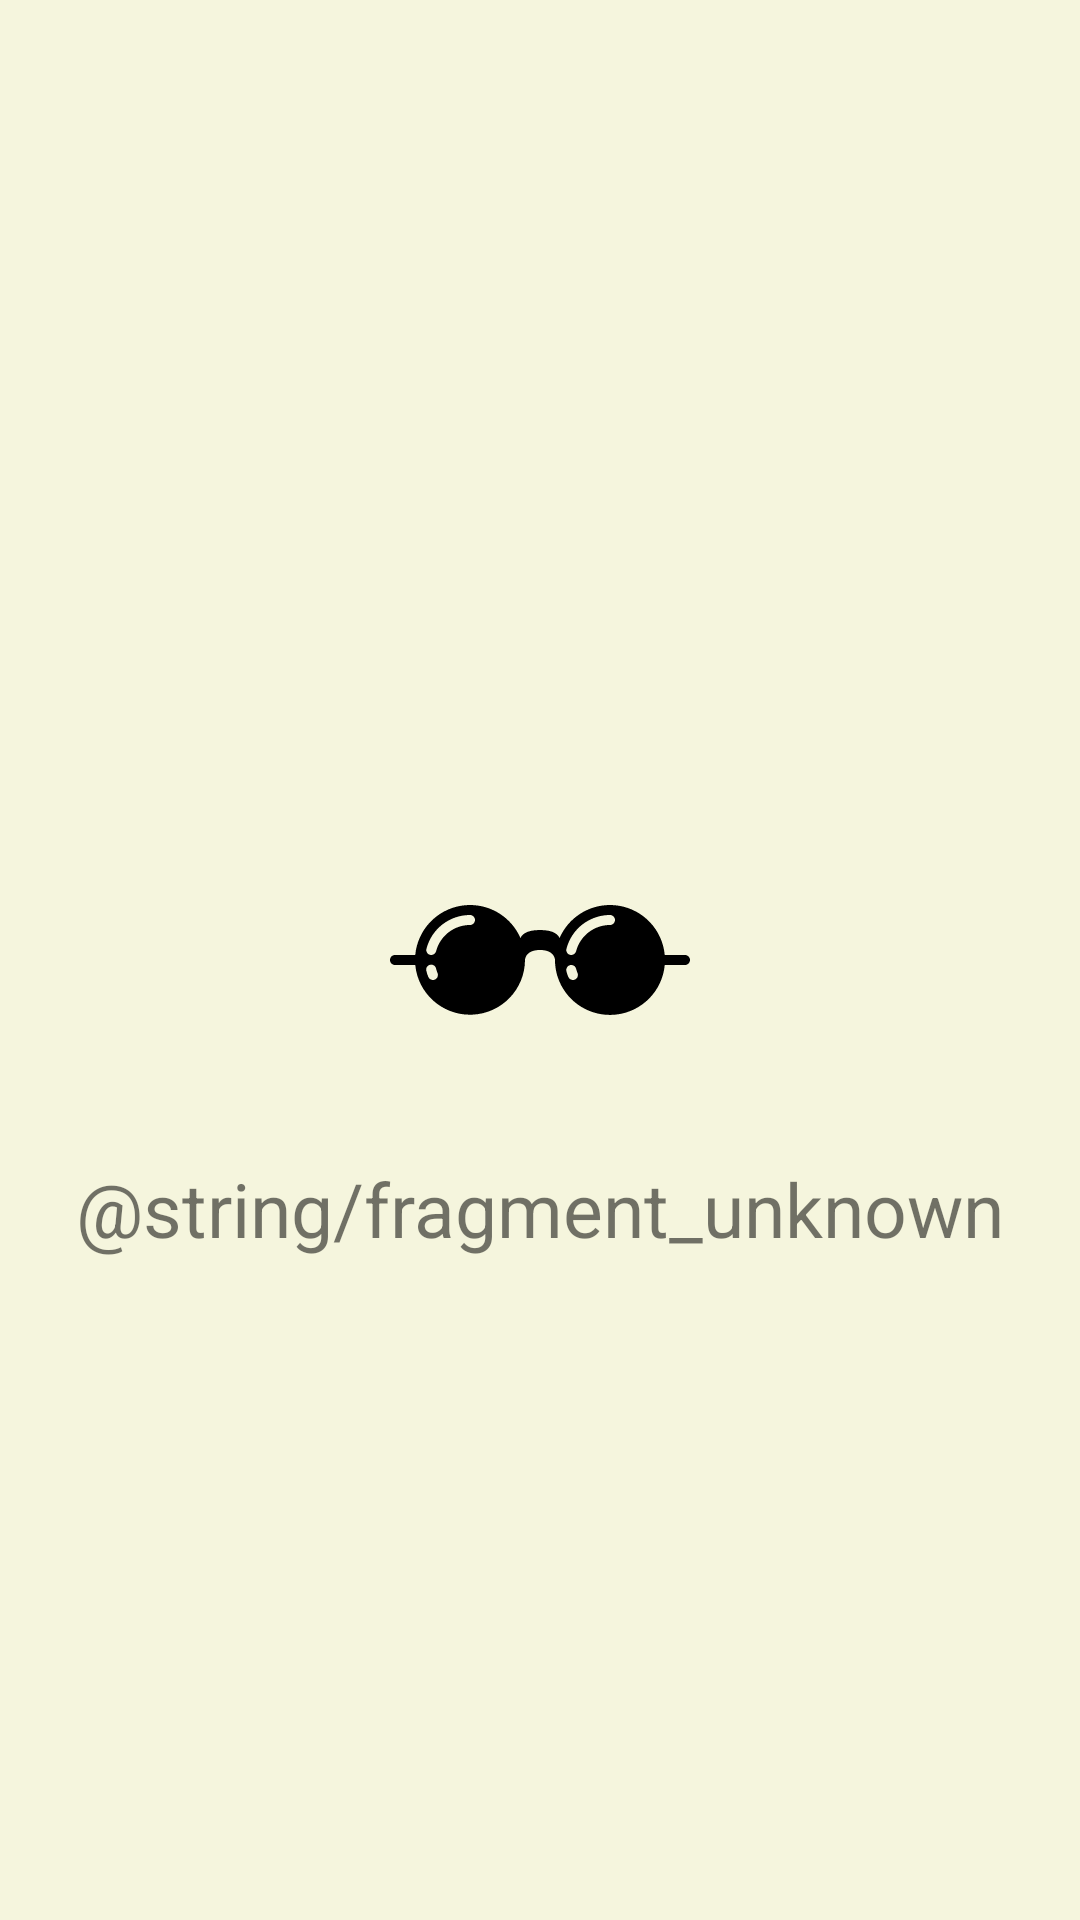

Where to tap for icons on this 1080w x 1920h app screen, as point (x, y):
glasses: point (540, 960)
